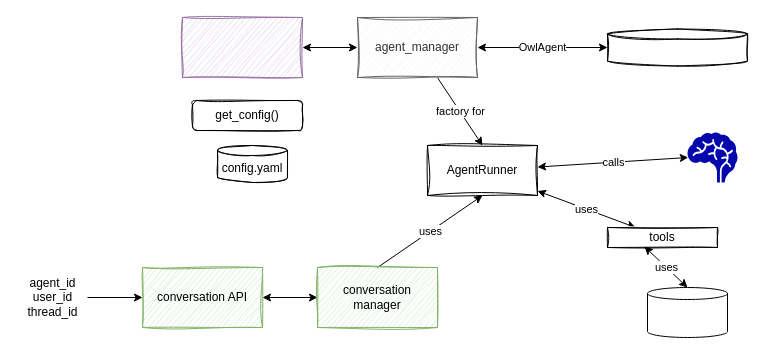
Some shapes in this 765 by 355 pixel diagram are drawn without their labels. Each missing label, with the centre of its shape:
agents API: point (242, 47)
agents.yaml: point (677, 47)
LLM: point (712, 157)
Vector Store: point (687, 312)
